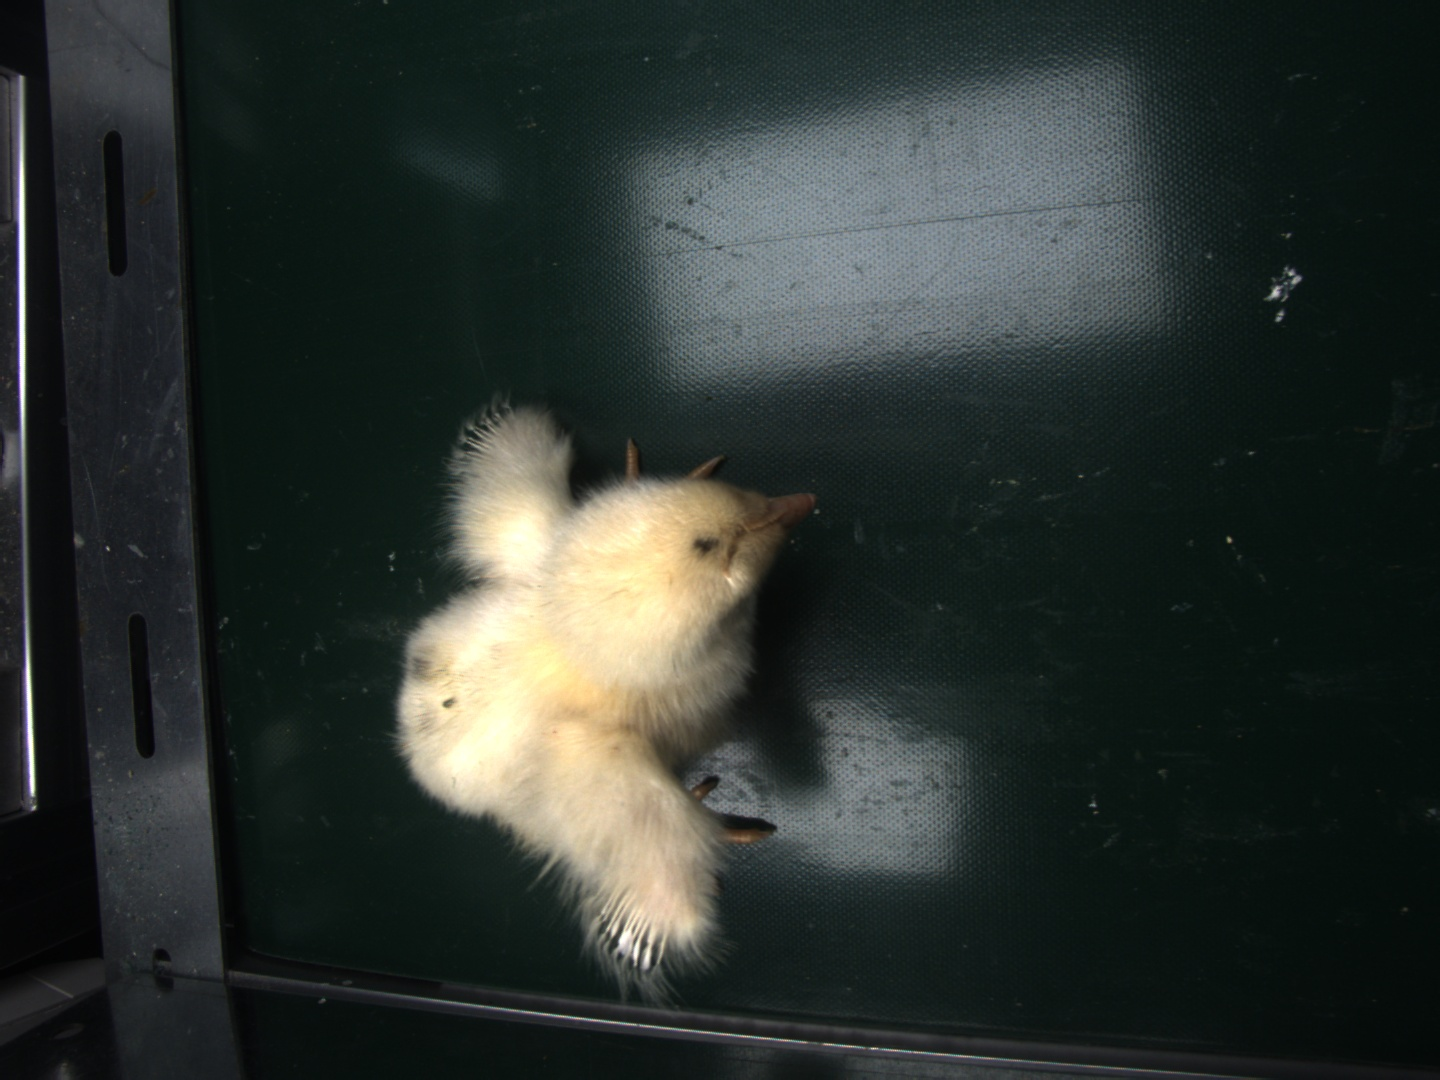male: (595, 884, 672, 964), (460, 404, 520, 458)
